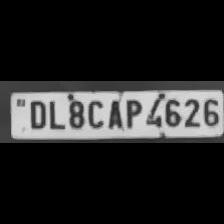2: (181, 96, 201, 128)
4: (143, 96, 163, 128)
6: (200, 96, 220, 128), (162, 96, 180, 128)
8: (65, 98, 85, 130)
A: (104, 97, 124, 129)
C: (84, 97, 104, 129)
D: (26, 98, 46, 130)
L: (46, 97, 64, 130)
P: (122, 96, 142, 130)
